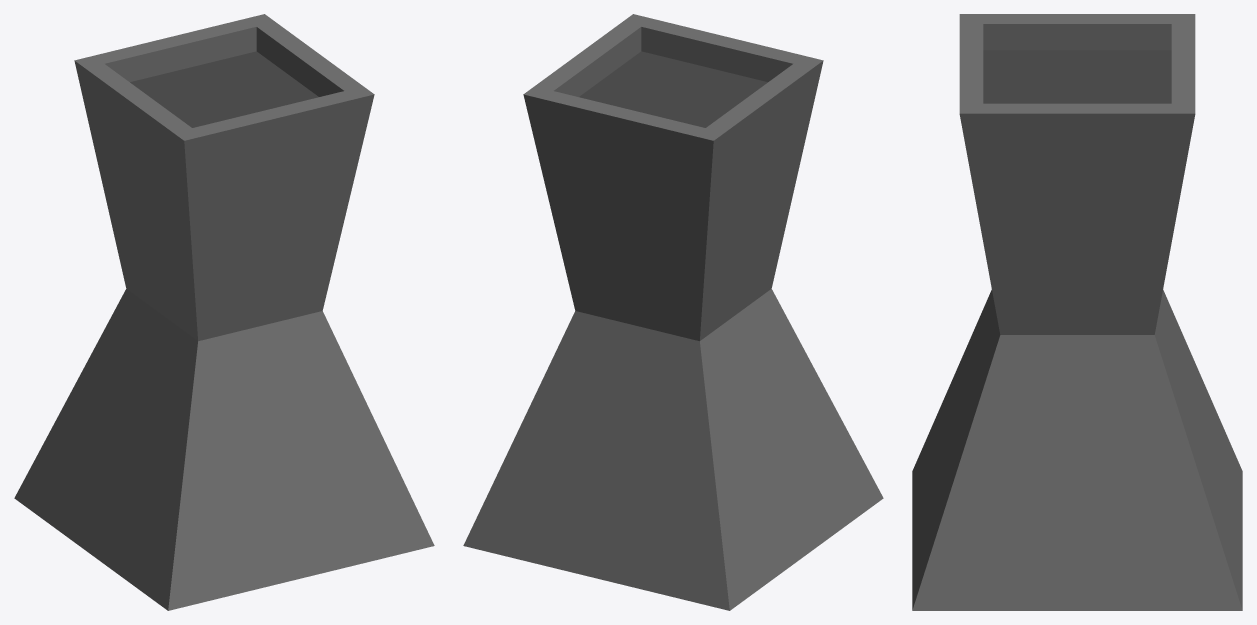
File: fire_pilar_type_01.fbx
3 views of the same model, side by side, from view 1: azimuth 30°, elevation 25°; view 2: azimuth 150°, elevation 25°; view 3: azimuth 270°, elevation 25° (orthographic). The views are drawn at different scales.
Parts seen in each view (by area): view 1: fire_pilar_type_01; view 2: fire_pilar_type_01; view 3: fire_pilar_type_01.
Boxes of the visible parts, <box> form: fire_pilar_type_01: <box>14,14,434,610</box>; fire_pilar_type_01: <box>463,14,883,610</box>; fire_pilar_type_01: <box>912,14,1242,610</box>.
Bounding box in the file's own units: 53.09 × 84.63 × 53.09.
